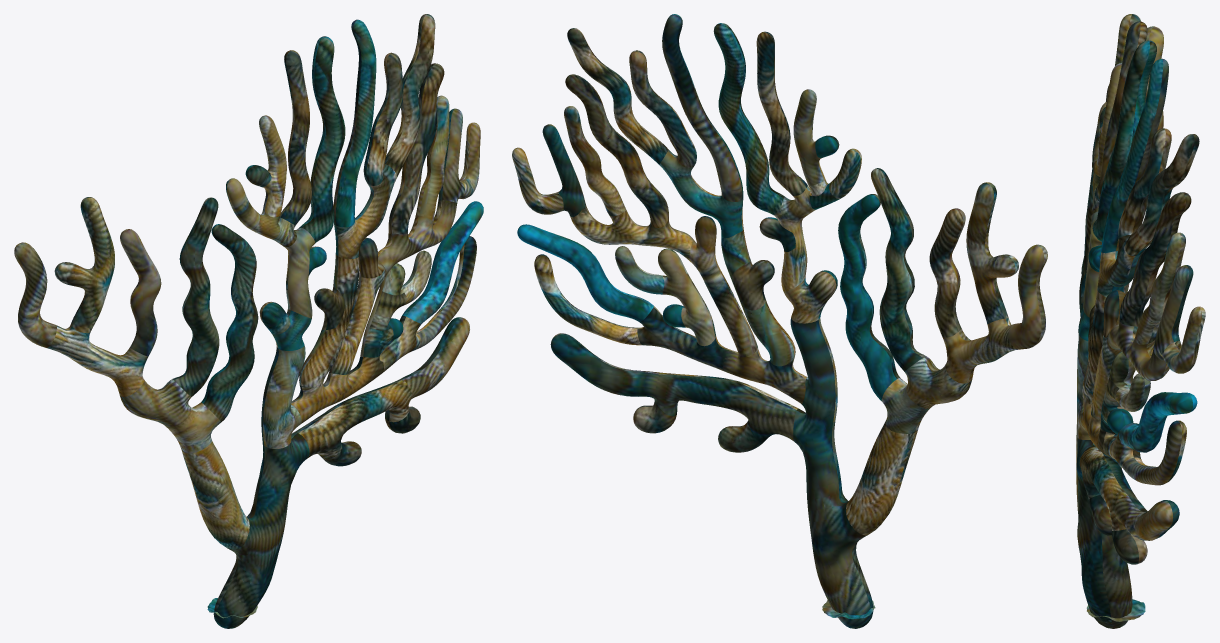
Rendered from softCoralTop.obj.
The picture shows the model from 3 angles, left to right: view 1: azimuth 30°, elevation 25°; view 2: azimuth 150°, elevation 25°; view 3: azimuth 270°, elevation 25°; orthographic projection. The views are drawn at different scales.
Parts seen in each view (by area): view 1: softCoral; view 2: softCoral; view 3: softCoral.
Boxes of the visible parts, x1,y1,x2,y2 form: softCoral: [14, 14, 483, 628]; softCoral: [512, 14, 1047, 628]; softCoral: [1076, 14, 1205, 628].
Size of the model in its own units: 14.94 by 16.4 by 2.95.
